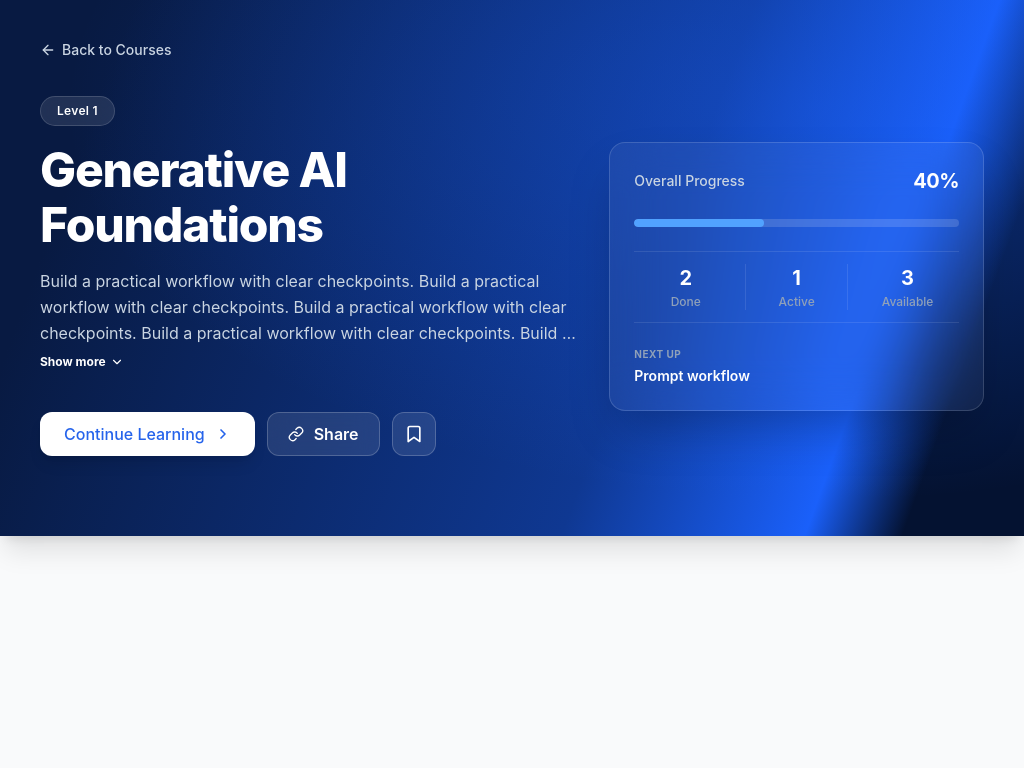
Test: LevelHeroBanner › expands and collapses long descriptions
What coordinates should you click on to do the following:
click the button "Show more"
I would click on:
 (82, 362)
Its box is [40,354,124,370].
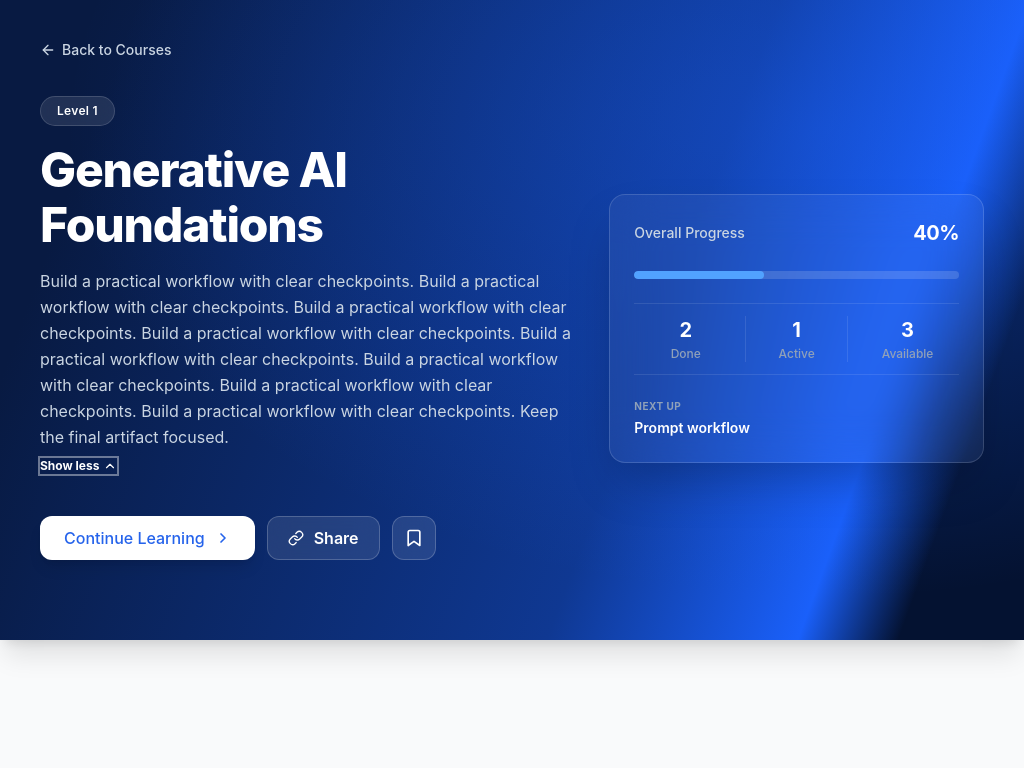
Result: the button "Show less" is expanded
What coordinates should you click on to do the following:
click the button "Show less"
I would click on:
 (79, 466)
Its box is [40,458,117,474].
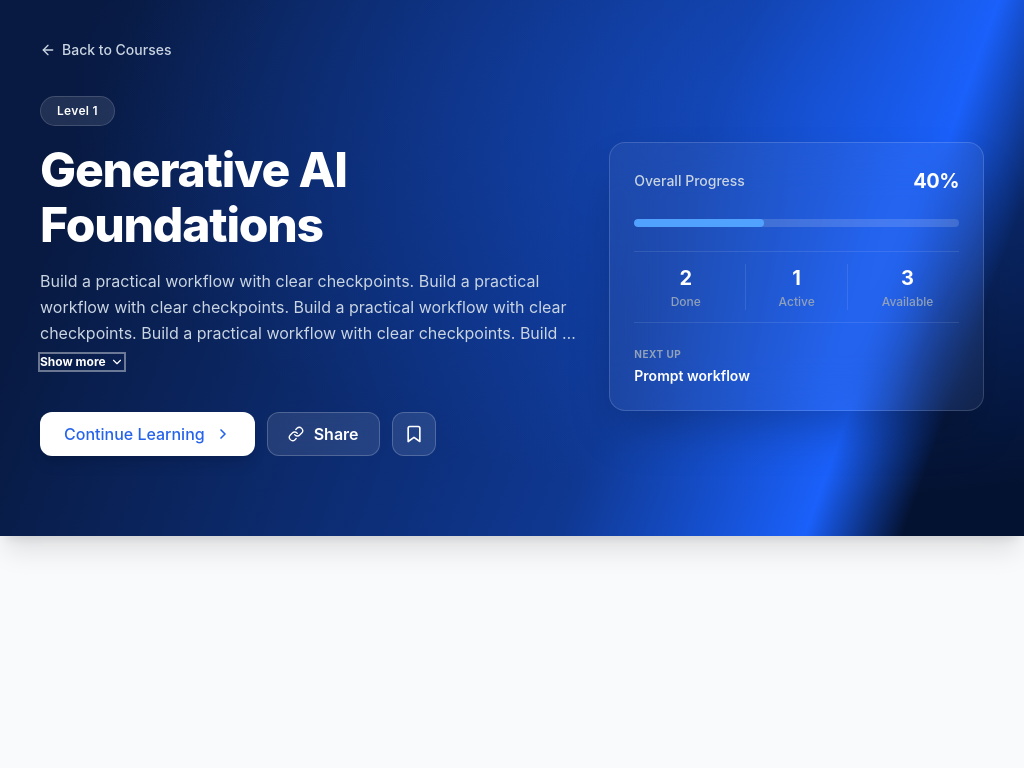
Result: the button "Show more" is collapsed at [40,354,124,370]
